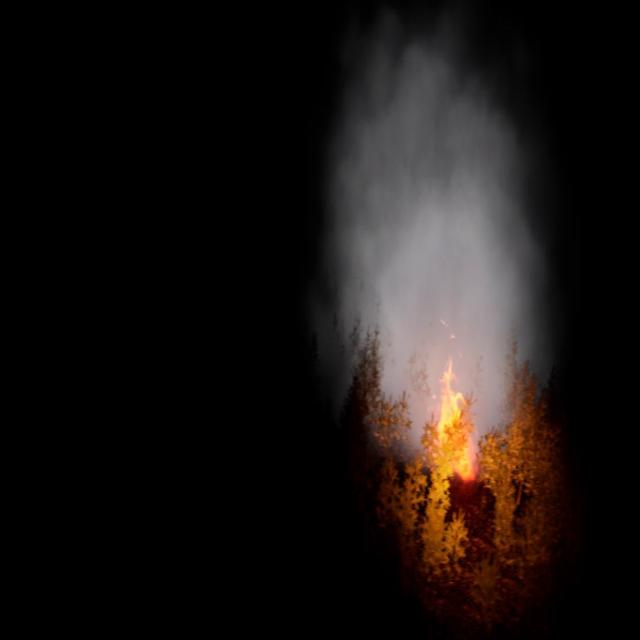fire: (428, 322, 481, 484)
smoke: (311, 9, 556, 457)
